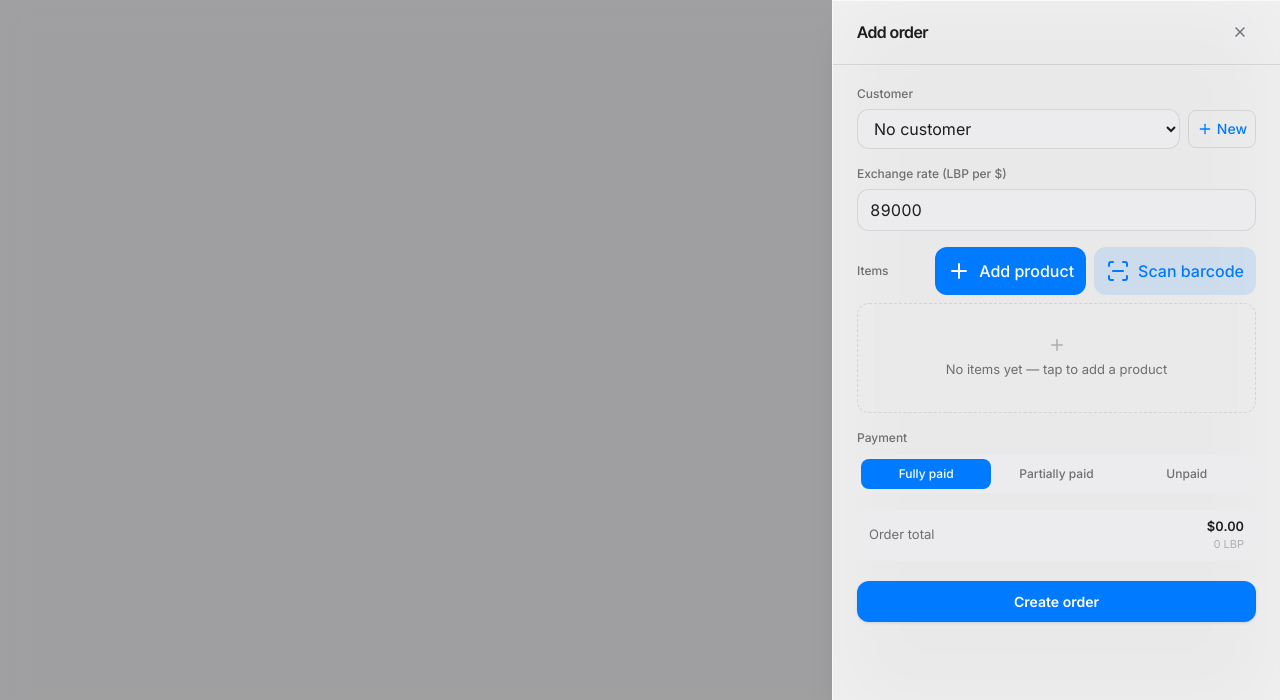
Test case: payment controls › shows the remaining balance as the amount paid changes
Click the button "Add product" at (1011, 271), box left=935, top=247, right=1086, bottom=295
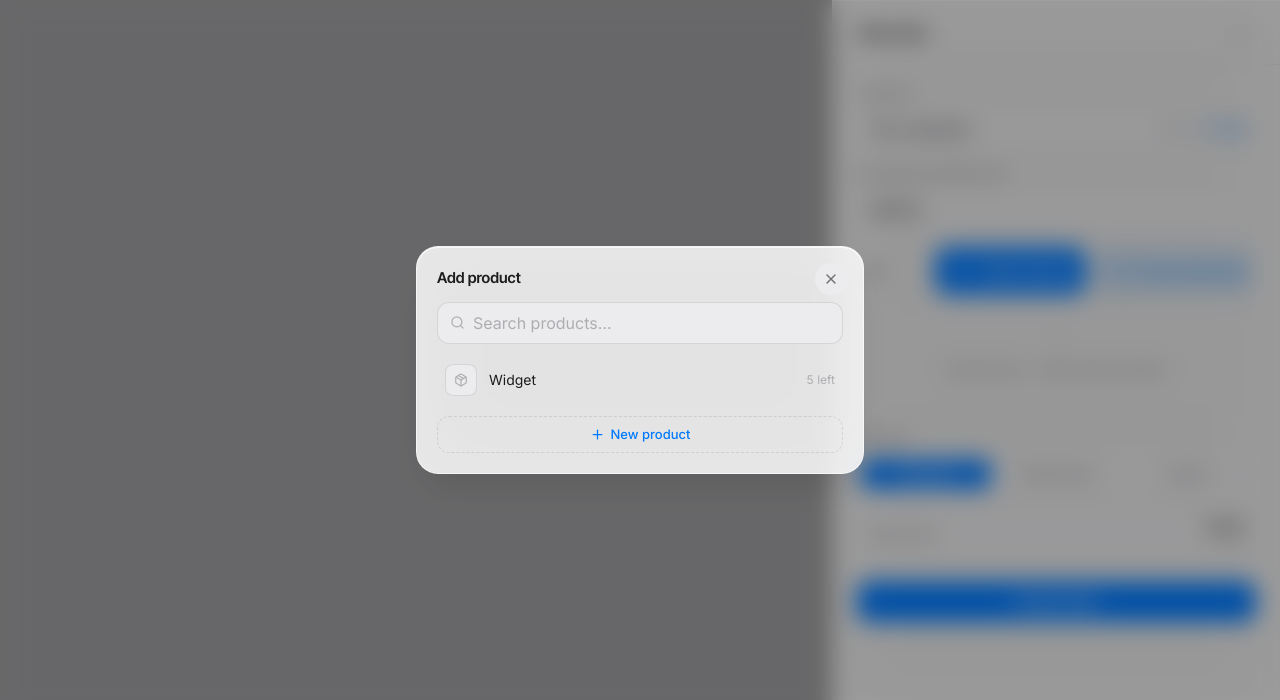
Click the button "Widget 5 left" at (461, 380), box left=437, top=356, right=843, bottom=404
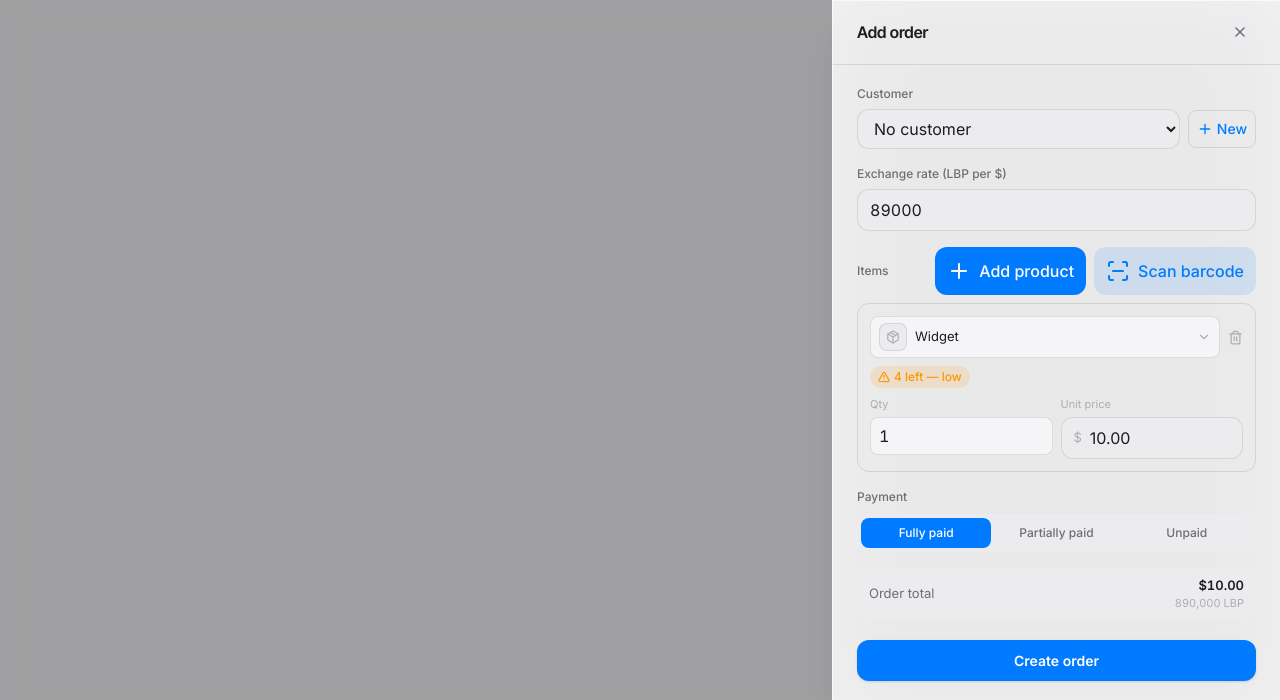
Click the button "Partially paid" at (1056, 532), box left=991, top=518, right=1122, bottom=548
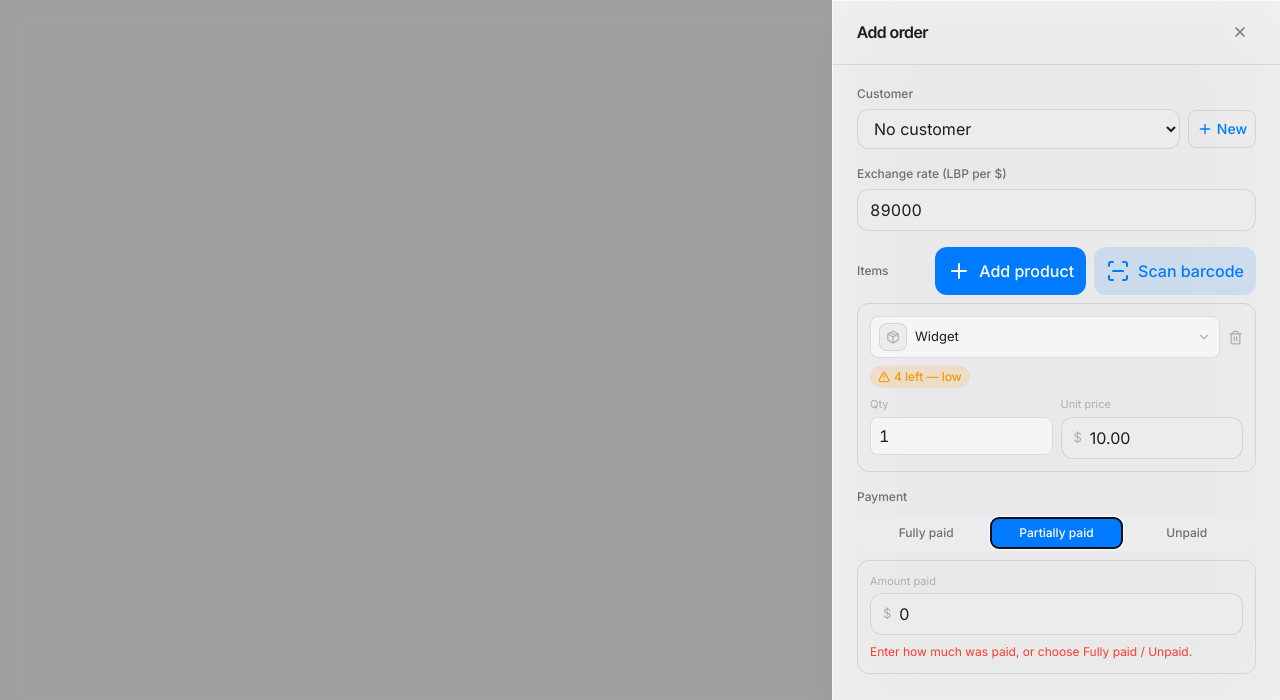
Replace the text in the field labelled "Amount paid $" with "4" at (1065, 614), box left=899, top=602, right=1230, bottom=626
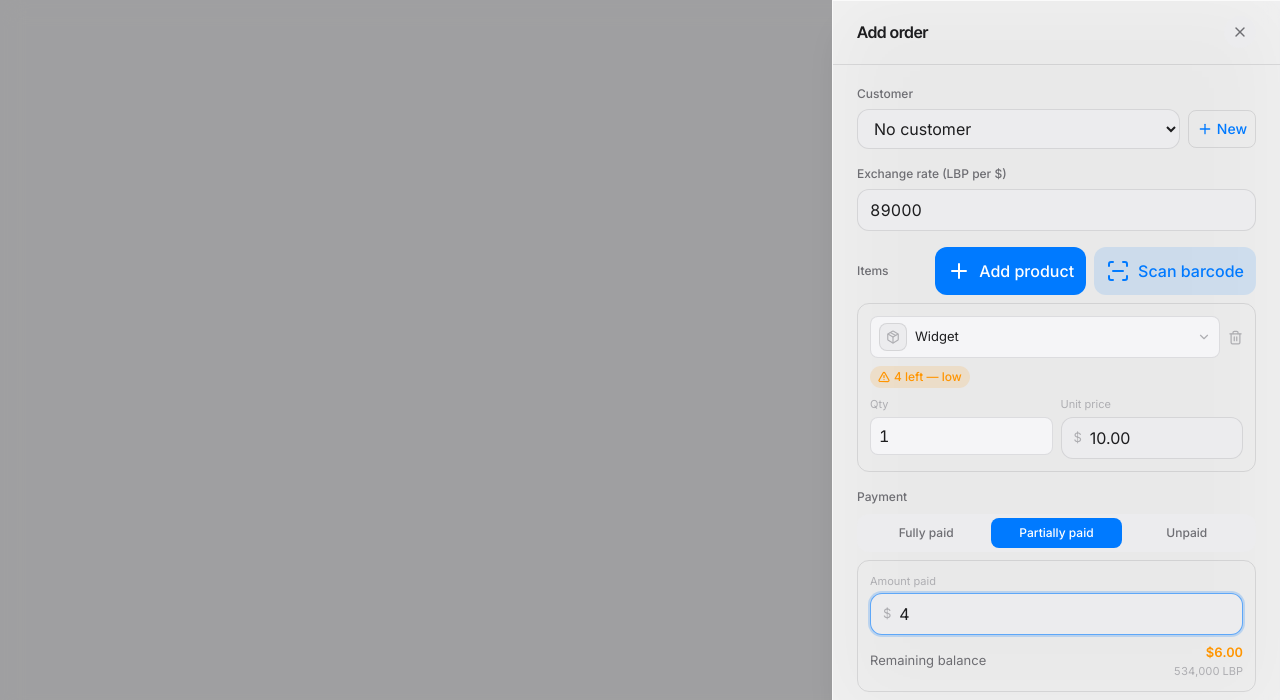
expect the text "Remaining balance" is shown: met, box left=870, top=651, right=986, bottom=671
expect the text "$6.00" is shown: met, box left=1206, top=643, right=1243, bottom=662
